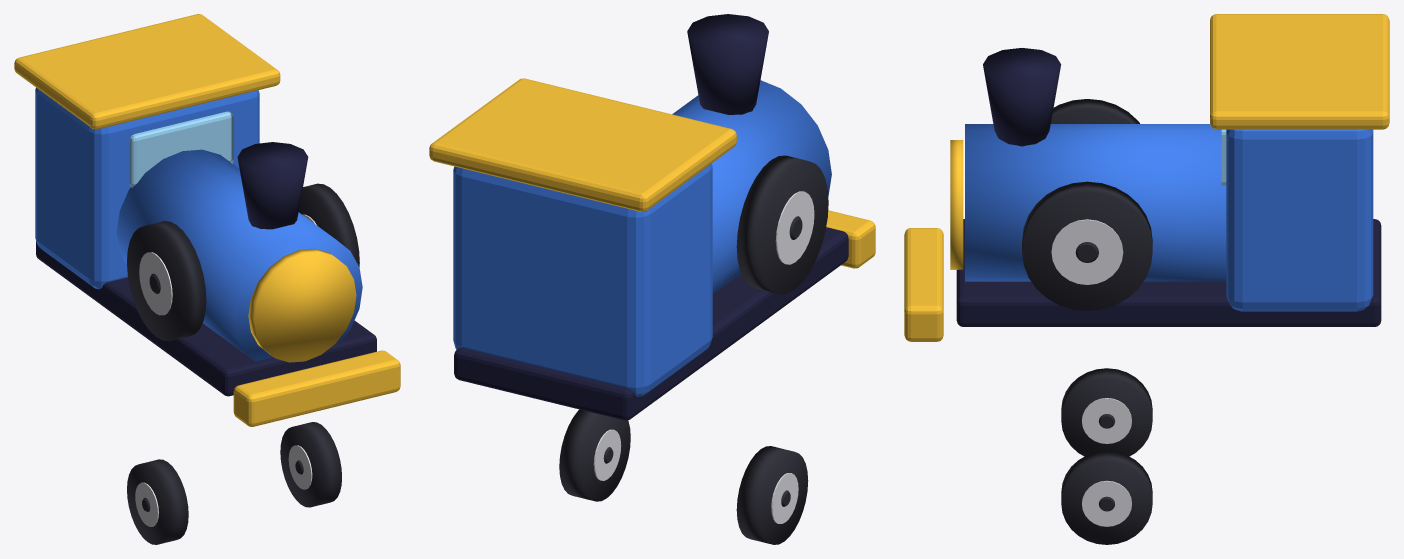
File: Car_Train.fbx
The picture shows the model from 3 angles, left to right: view 1: azimuth 30°, elevation 25°; view 2: azimuth 150°, elevation 25°; view 3: azimuth 270°, elevation 25°; orthographic projection. The views are drawn at different scales.
Visible parts, largest first — view 1: Car_Train, Wheel_RL, Wheel_FL, Wheel_FR, Wheel_RR; view 2: Car_Train, Wheel_RL, Wheel_FL, Wheel_FR; view 3: Car_Train, Wheel_RR, Wheel_FR, Wheel_FL, Wheel_RL.
Part boxes in pixels (x1,y1,x2,y2): Car_Train: (14, 14, 400, 426); Wheel_RL: (127, 221, 206, 341); Wheel_FL: (127, 459, 188, 544); Wheel_FR: (280, 422, 341, 507); Wheel_RR: (298, 183, 359, 266); Car_Train: (429, 14, 875, 420); Wheel_RL: (736, 155, 828, 294); Wheel_FL: (736, 446, 808, 544); Wheel_FR: (559, 409, 630, 501); Car_Train: (904, 14, 1389, 341); Wheel_RR: (1022, 181, 1152, 310); Wheel_FR: (1061, 451, 1152, 544); Wheel_FL: (1061, 368, 1152, 456); Wheel_RL: (1050, 99, 1139, 123).
Size of the model in its own units: 0.74 by 1.47 by 1.49.
